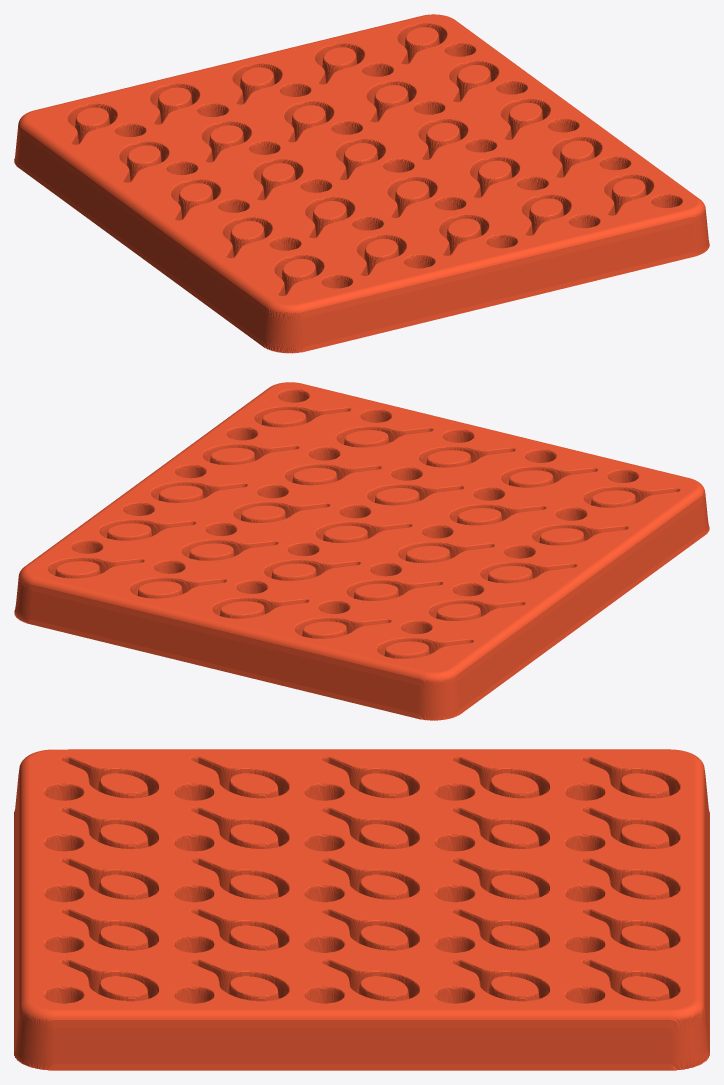
Rendered from mold.glb.
3 renders of one model, top to bottom at view 1: azimuth 30°, elevation 25°; view 2: azimuth 150°, elevation 25°; view 3: azimuth 270°, elevation 25°, orthographic. The views are drawn at different scales.
Visible parts, largest first — view 1: geometry_0; view 2: geometry_0; view 3: geometry_0.
Part boxes in pixels (left/top/right/bottom): geometry_0: left=14, top=14, right=709, bottom=353; geometry_0: left=14, top=382, right=709, bottom=720; geometry_0: left=14, top=749, right=709, bottom=1070.
Size of the model in its own units: 0.1467 by 0.0136 by 0.1584.
